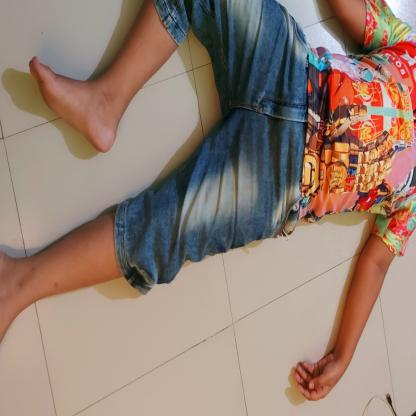hand: (291, 235, 393, 404)
leg: (26, 0, 180, 155), (0, 204, 120, 345)
